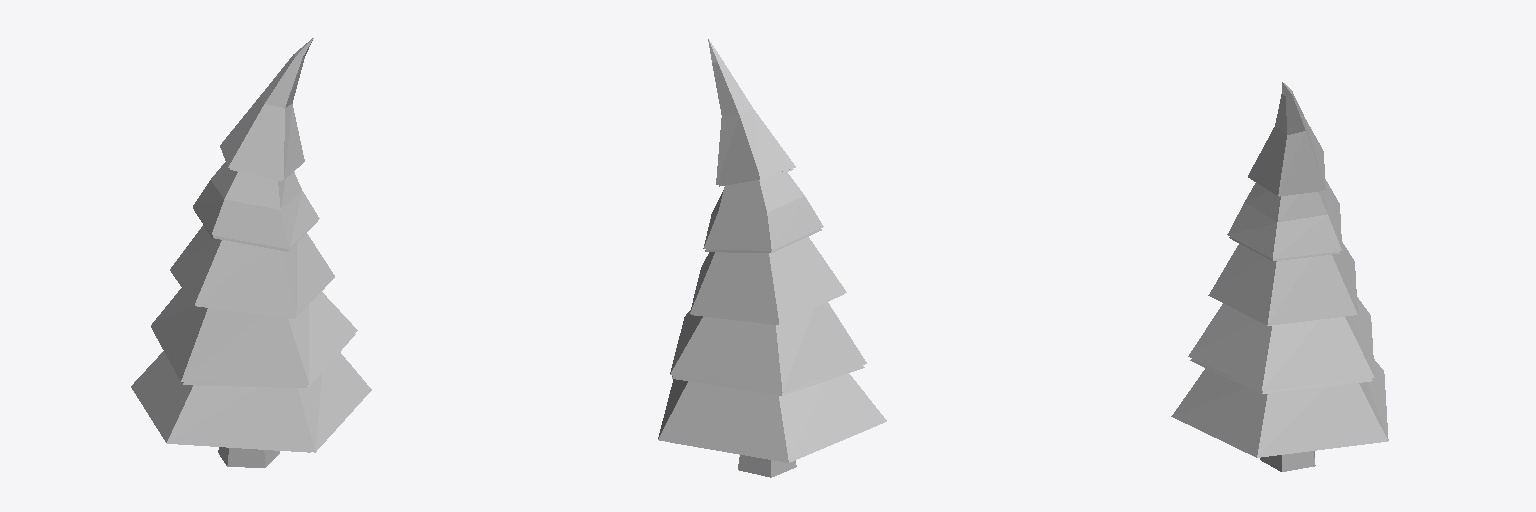
Rendered from Low-Poly_Tree.obj.
3 views of the same model, side by side, from view 1: azimuth 30°, elevation 25°; view 2: azimuth 150°, elevation 25°; view 3: azimuth 270°, elevation 25° (orthographic).
Visible parts, largest first — view 1: Cylinder.001; view 2: Cylinder.001; view 3: Cylinder.001.
Part boxes in pixels (x1,y1,x2,y2): Cylinder.001: (131,38,371,467); Cylinder.001: (658,39,886,477); Cylinder.001: (1171,82,1388,471).
Size of the model in its own units: 7.95 by 14.84 by 7.15.